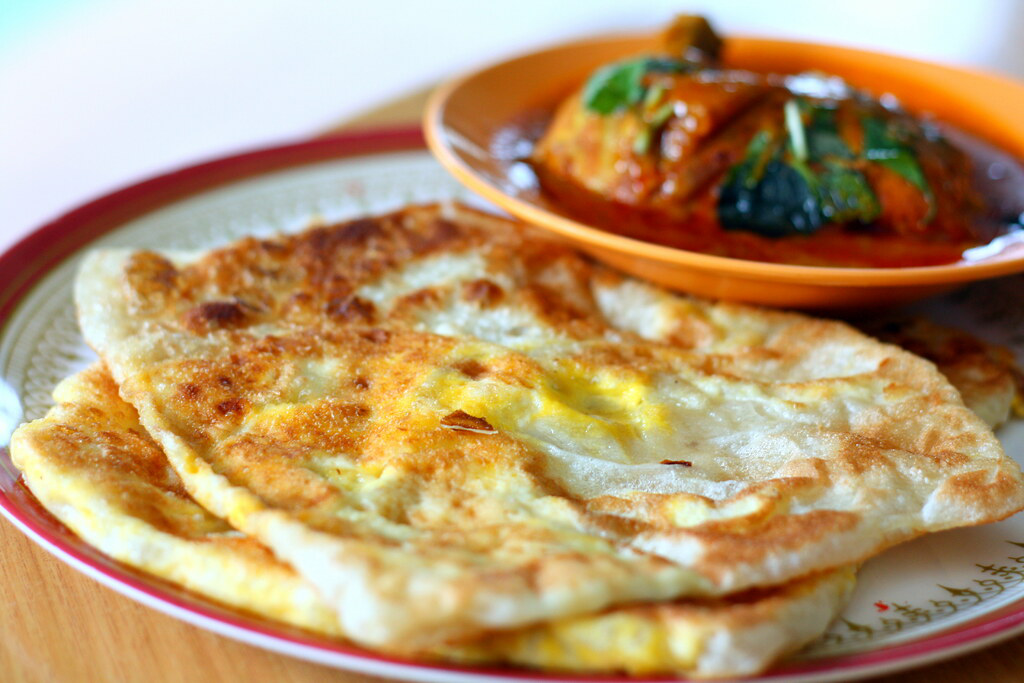Prata: (78, 206, 999, 668)
